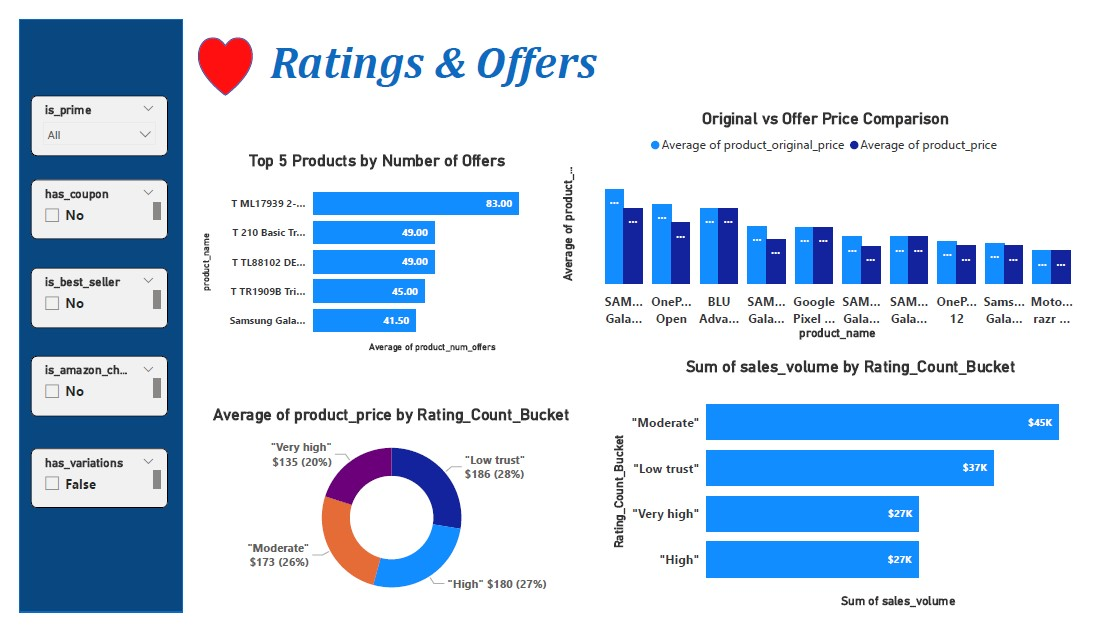

The dashboard page shown, as its layout file describes it:
{"tool":"powerbi","page":{"name":"Ratings & Offers","canvas":[1280,720],"ordinal":2},"visuals":[{"type":"shape","box":[0,0,194.8,705.6],"z":0},{"type":"barChart","fields":{"Category":["phone search.Rating_Count_Bucket"],"Y":["Sum(phone search.sales_volume)"]},"box":[701.3,401.8,578.7,304.1],"z":1000},{"type":"donutChart","fields":{"Category":["phone search.Rating_Count_Bucket"],"Y":["Avg(phone search.product_price)"]},"box":[218.6,459.1,449.2,246.5],"z":2000},{"type":"clusteredBarChart","title":"Top 5 Products by Number of Offers","fields":{"Category":["phone search.product_name"],"Y":["Avg(phone search.product_num_offers)"]},"box":[212.7,157,427.3,244.5],"z":3000},{"type":"clusteredColumnChart","title":"Original vs Offer Price Comparison","fields":{"Category":["phone search.product_name"],"Y":["Avg(phone search.product_original_price)","Avg(phone search.product_price)"]},"box":[640.8,107.1,639.2,279.3],"z":4000},{"type":"slicer","fields":{"Values":["phone search.is_prime"]},"box":[13.9,91.4,163,71.6],"z":5000},{"type":"slicer","fields":{"Values":["phone search.has_coupon"]},"box":[13.9,190.8,163,71.6],"z":6000},{"type":"slicer","fields":{"Values":["phone search.is_best_seller"]},"box":[13.9,296.1,163,71.6],"z":7000},{"type":"slicer","fields":{"Values":["phone search.is_amazon_choice"]},"box":[13.9,401.5,163,71.6],"z":8000},{"type":"slicer","fields":{"Values":["phone search.has_variations"]},"box":[13.9,510.8,163,71.6],"z":9000},{"type":"shape","box":[212.7,21.9,65.6,69.6],"z":10000},{"type":"textbox","box":[288.2,13.9,409.4,91.4],"z":11000}]}

Visuals, with their boxes in screenshot pixels (x1, y1, x2, y2), scaled from the page's 1280x720 canvas onto the 1112x637 screenshot:
shape: left=0, top=0, right=169, bottom=624
barChart - phone search.Rating_Count_Bucket x Sum(phone search.sales_volume): left=609, top=355, right=1111, bottom=625
donutChart - phone search.Rating_Count_Bucket x Avg(phone search.product_price): left=190, top=406, right=580, bottom=624
"Top 5 Products by Number of Offers" clusteredBarChart: left=185, top=139, right=556, bottom=355
"Original vs Offer Price Comparison" clusteredColumnChart: left=557, top=95, right=1111, bottom=342
slicer - phone search.is_prime: left=12, top=81, right=154, bottom=144
slicer - phone search.has_coupon: left=12, top=169, right=154, bottom=232
slicer - phone search.is_best_seller: left=12, top=262, right=154, bottom=325
slicer - phone search.is_amazon_choice: left=12, top=355, right=154, bottom=419
slicer - phone search.has_variations: left=12, top=452, right=154, bottom=515
shape: left=185, top=19, right=242, bottom=81
textbox: left=250, top=12, right=606, bottom=93
